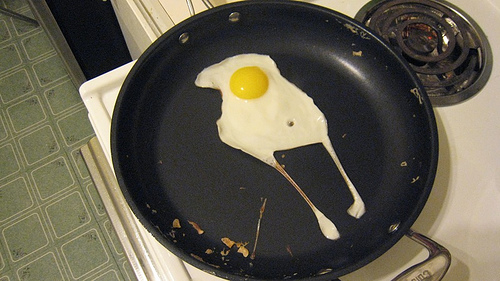egg: (192, 53, 367, 241)
